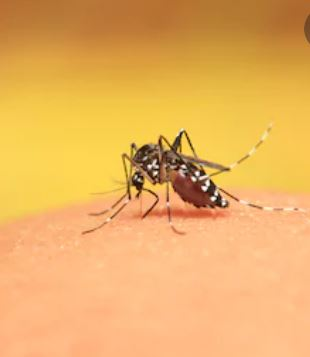dengue_mosquito: (87, 126, 304, 219)
